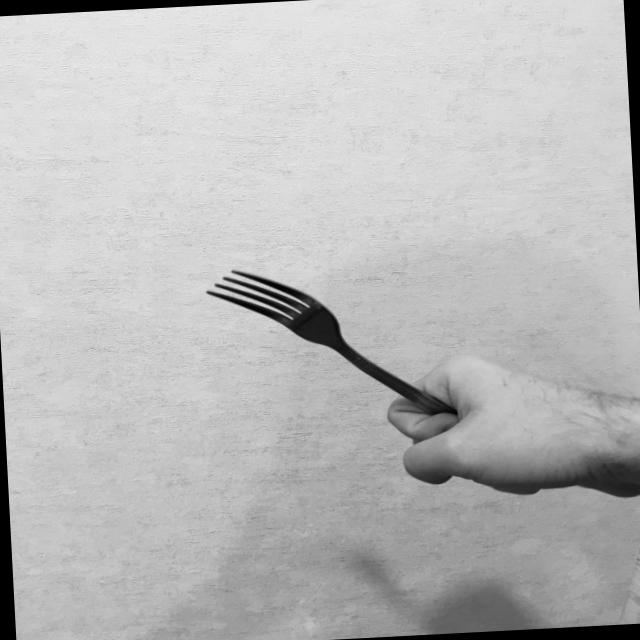fork: (200, 252, 472, 460)
